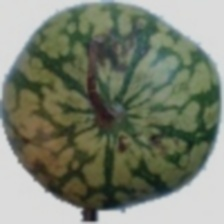watermelon: (36, 35, 214, 187)
